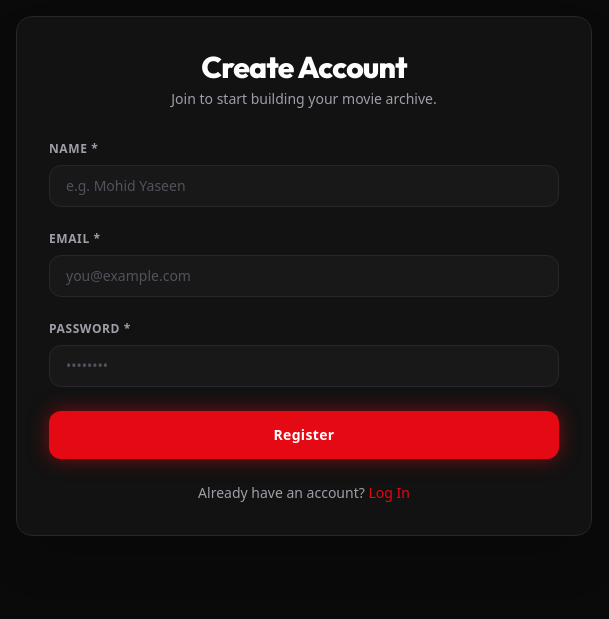
Test: RegisterForm › shows the error message when registration fails and stays on the page
Type "Jane Doe" into the field with placeholder "e.g. Mohid Yaseen".
click(304, 186); type("Jane Doe")  # box [49,165,559,207]
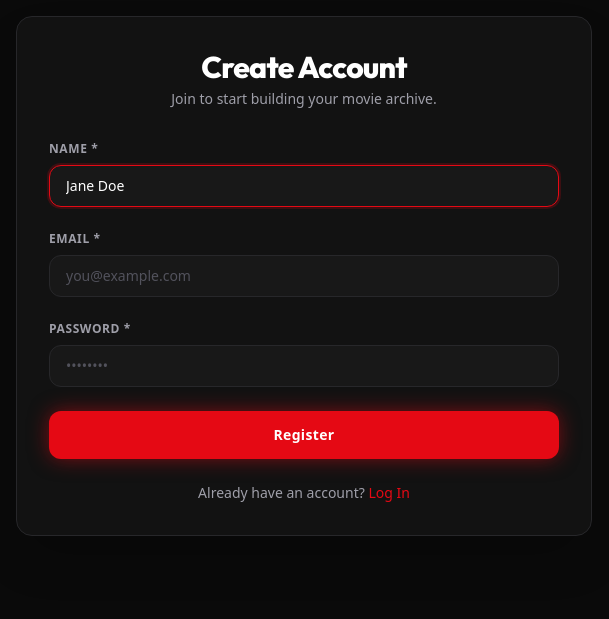
Type "jane@example.com" into the field with placeholder "you@example.com".
click(304, 276); type("jane@example.com")  # box [49,255,559,297]
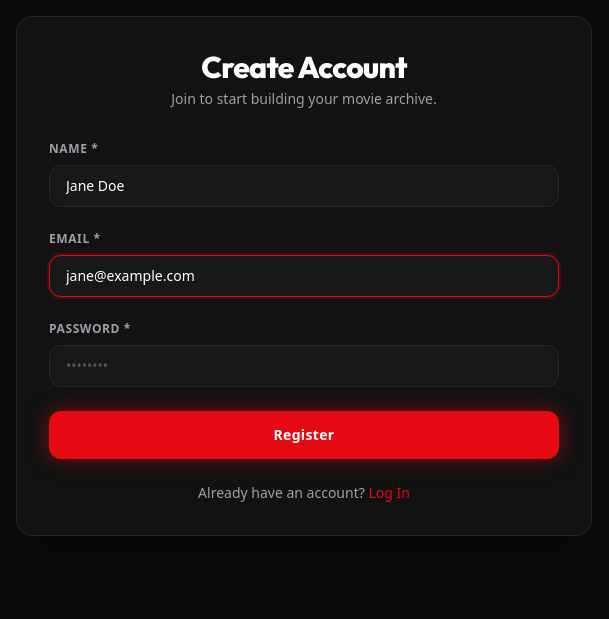
Type "secret123" into the password field with placeholder "••••••••".
click(304, 366); type("secret123")  # box [49,345,559,387]
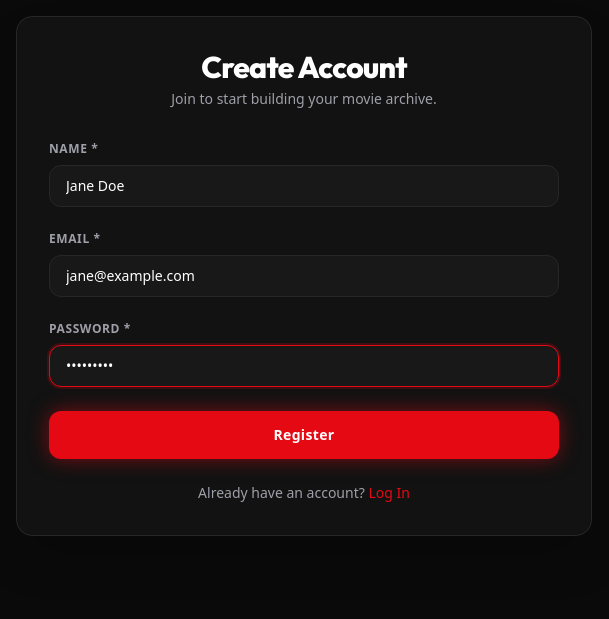
Click the button "Register".
click(304, 435)  # box [49,411,559,459]
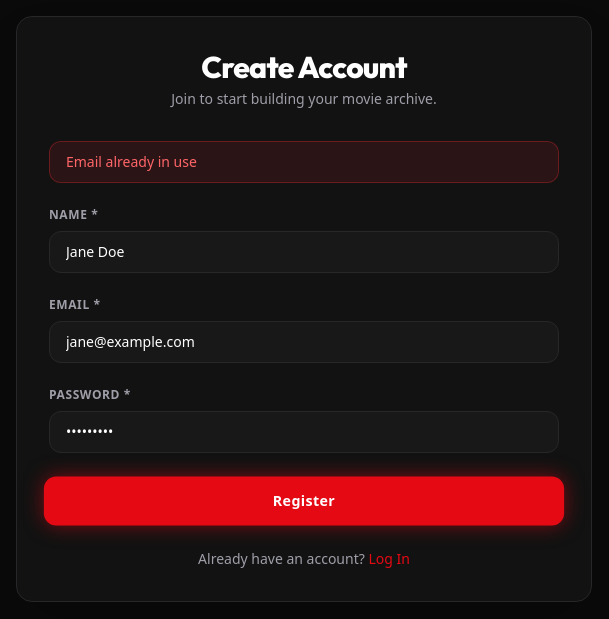
Expected: the button "Register" is enabled, [44,476,564,526]
Expected: the text "Email already in use" is shown, [49,141,559,183]
